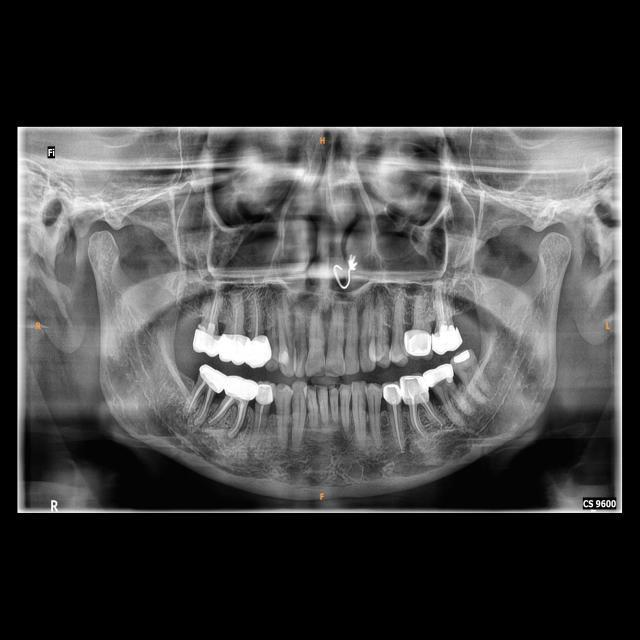dolgu: (450, 349, 474, 368)
kanal-tedavisi: (410, 395, 441, 437), (184, 383, 212, 424), (218, 398, 248, 434), (198, 293, 220, 330), (390, 403, 406, 453), (434, 286, 454, 325), (249, 294, 261, 338), (230, 296, 242, 339), (252, 404, 266, 434)
kaplama: (218, 330, 252, 366), (223, 370, 259, 400), (433, 324, 464, 356), (198, 361, 226, 395), (245, 333, 271, 369), (404, 327, 432, 360), (191, 326, 220, 357), (400, 372, 429, 403), (423, 363, 456, 387), (379, 384, 404, 406), (257, 384, 273, 404)
